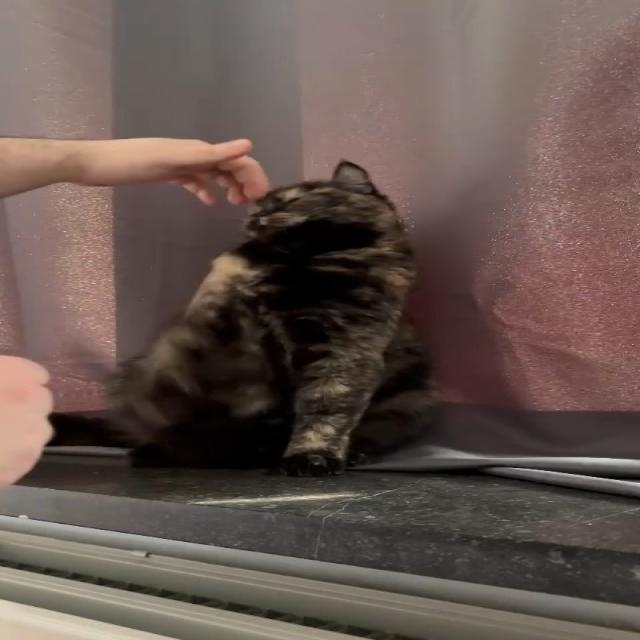authorized: (95, 158, 441, 477)
